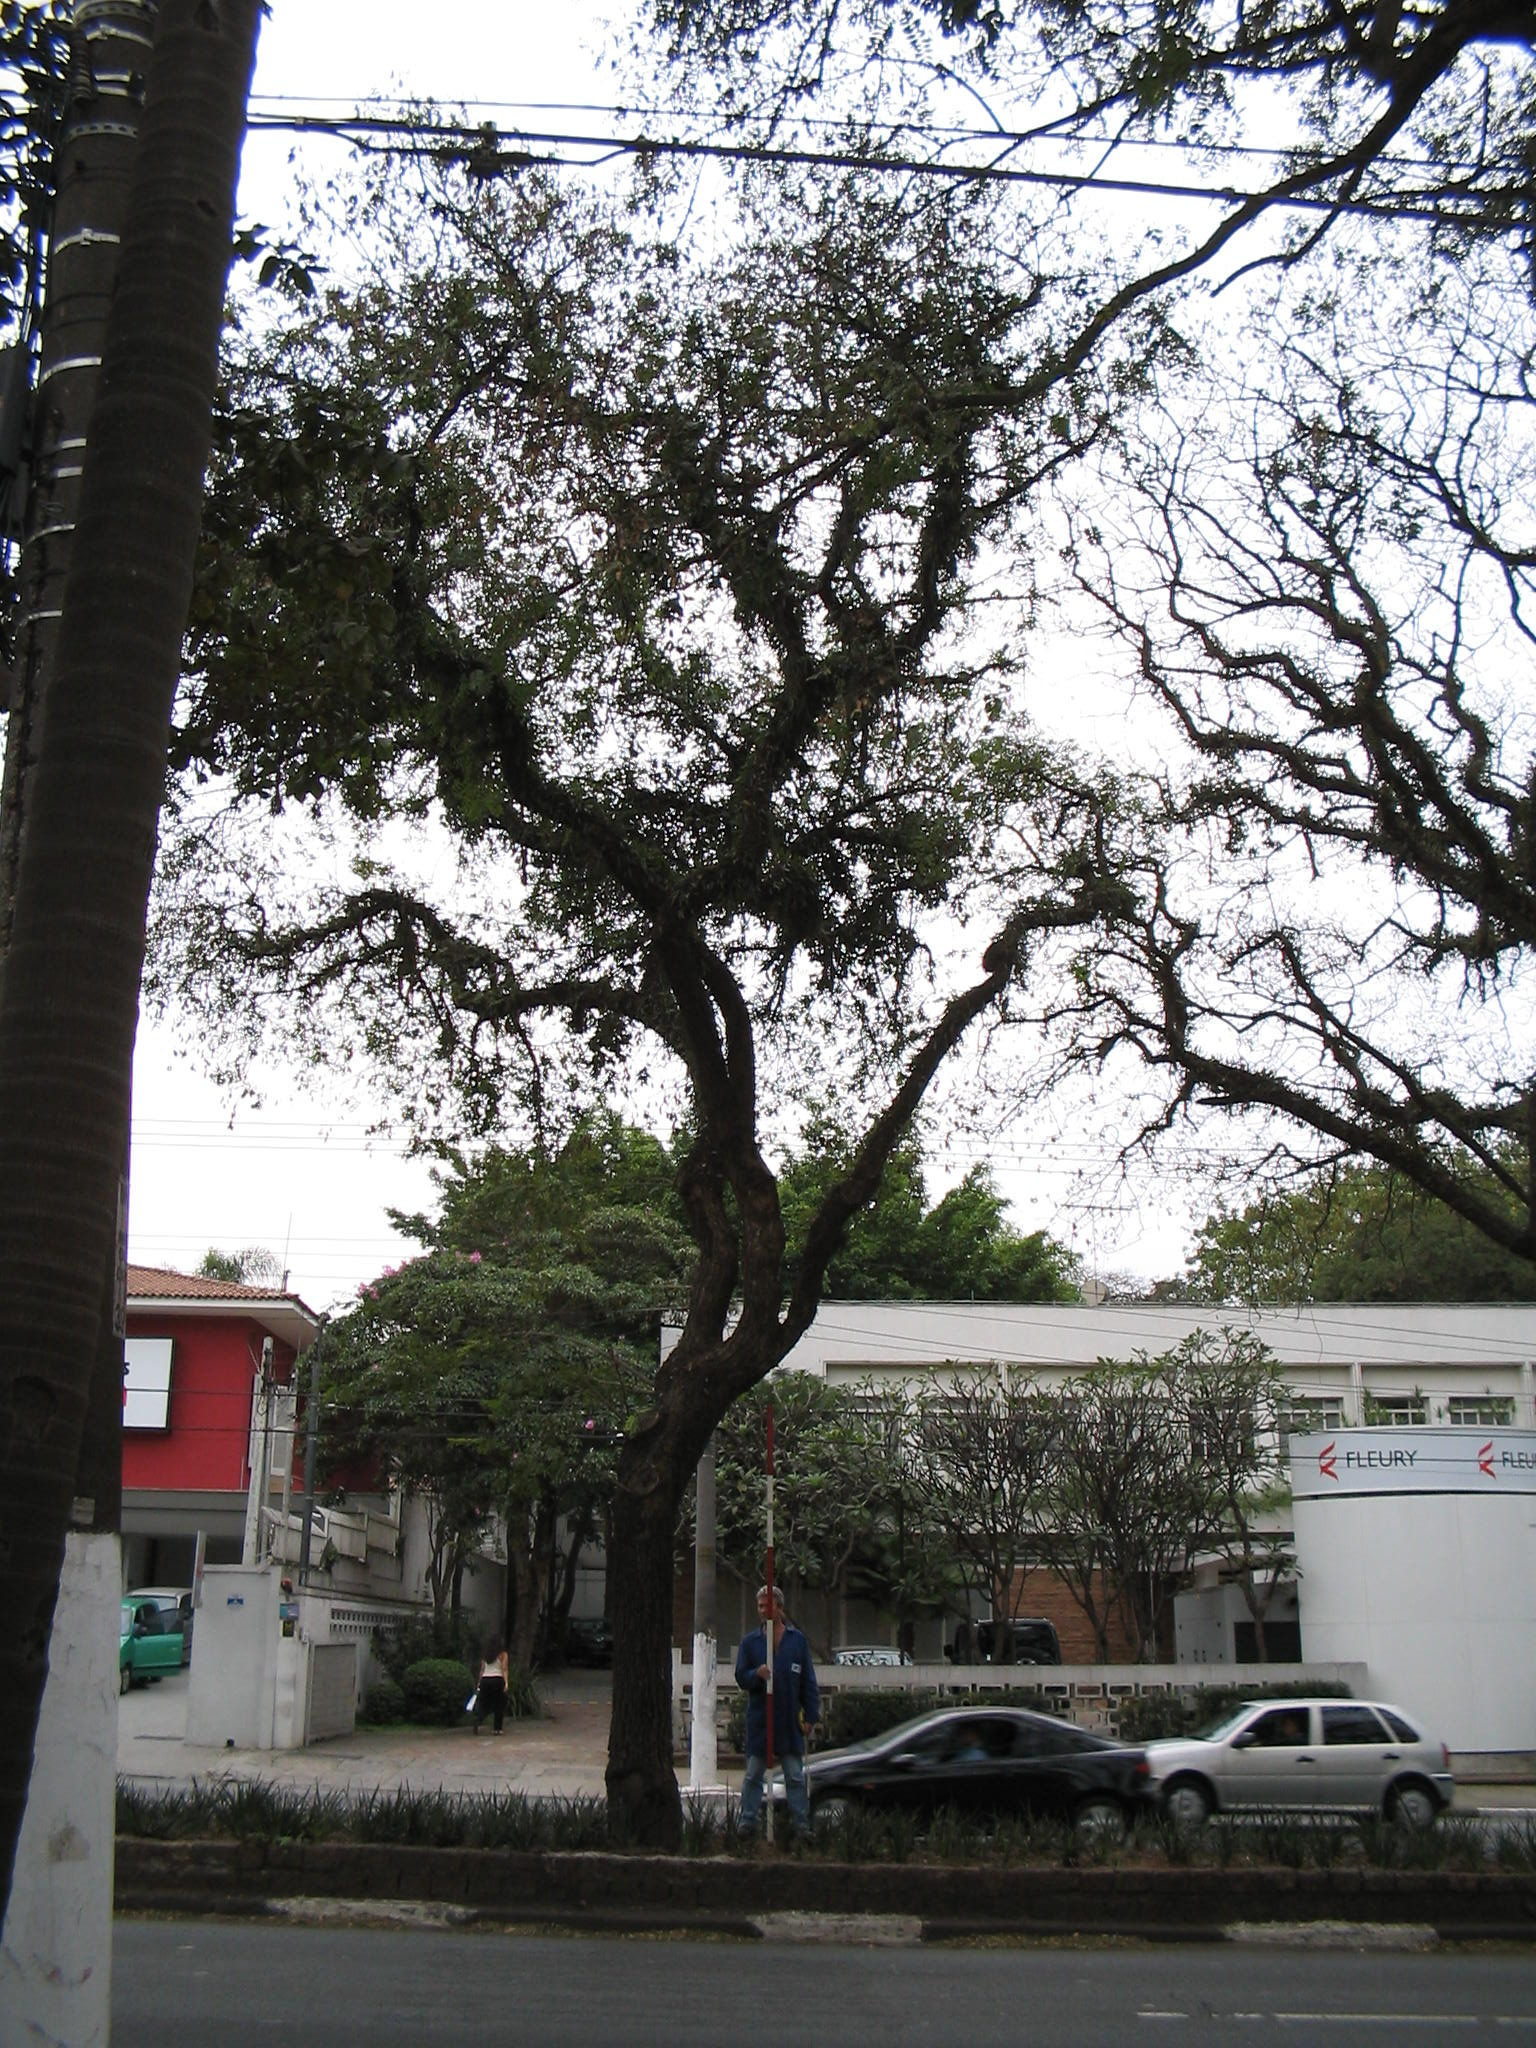crown: (194, 103, 1141, 1153)
stem: (557, 1390, 739, 1840)
stick: (731, 1400, 803, 1846)
tree: (186, 95, 1146, 1845)
